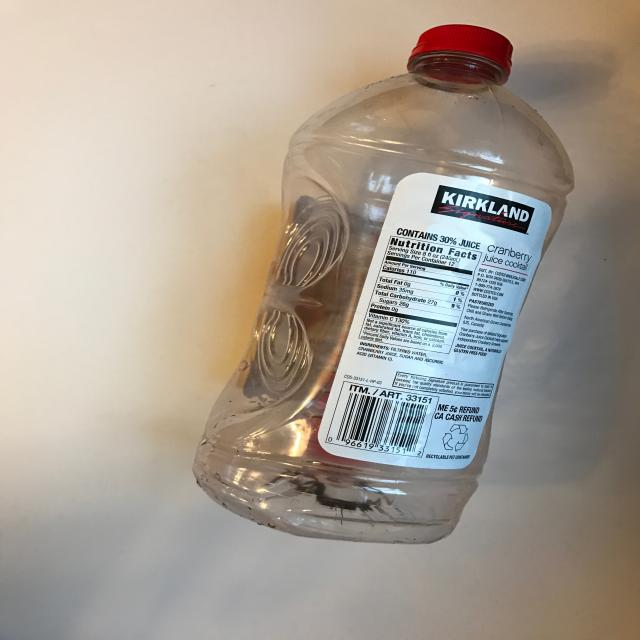plastic: (192, 24, 576, 545)
